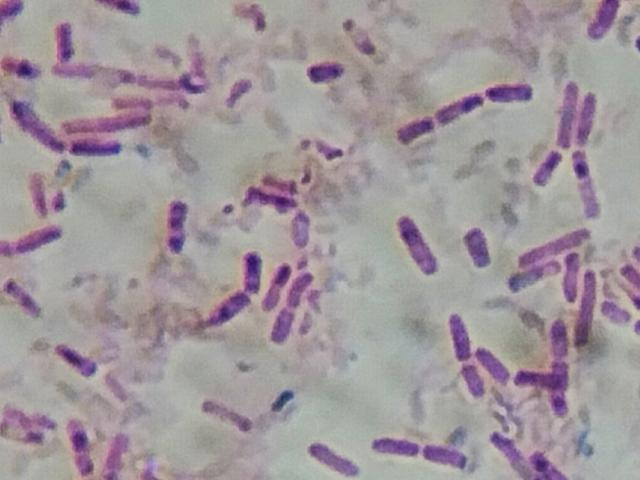E. coli: (397, 215, 443, 278), (13, 101, 58, 150), (571, 149, 602, 217), (545, 325, 570, 409), (63, 117, 154, 140), (0, 274, 41, 320), (527, 228, 592, 257), (68, 414, 97, 477), (397, 107, 439, 150), (419, 437, 477, 468), (6, 222, 64, 253), (205, 399, 253, 435), (589, 1, 626, 45), (168, 194, 193, 259), (102, 431, 135, 478), (553, 79, 578, 141), (246, 187, 296, 217), (308, 439, 352, 473), (264, 257, 289, 316), (213, 291, 249, 331), (509, 266, 566, 291), (58, 341, 96, 378), (433, 91, 481, 120), (490, 436, 526, 474), (73, 139, 125, 165), (463, 225, 493, 270), (488, 81, 535, 109), (305, 57, 343, 90), (269, 306, 297, 350), (529, 150, 562, 186), (368, 433, 417, 457), (446, 316, 474, 357), (579, 88, 600, 141), (582, 271, 597, 345), (475, 345, 503, 383), (289, 274, 318, 310), (530, 452, 565, 480), (28, 177, 53, 215), (519, 368, 559, 391), (102, 0, 147, 20), (566, 251, 583, 298), (242, 248, 261, 288), (56, 21, 77, 57), (462, 364, 481, 396), (7, 56, 32, 77), (621, 263, 640, 290)
